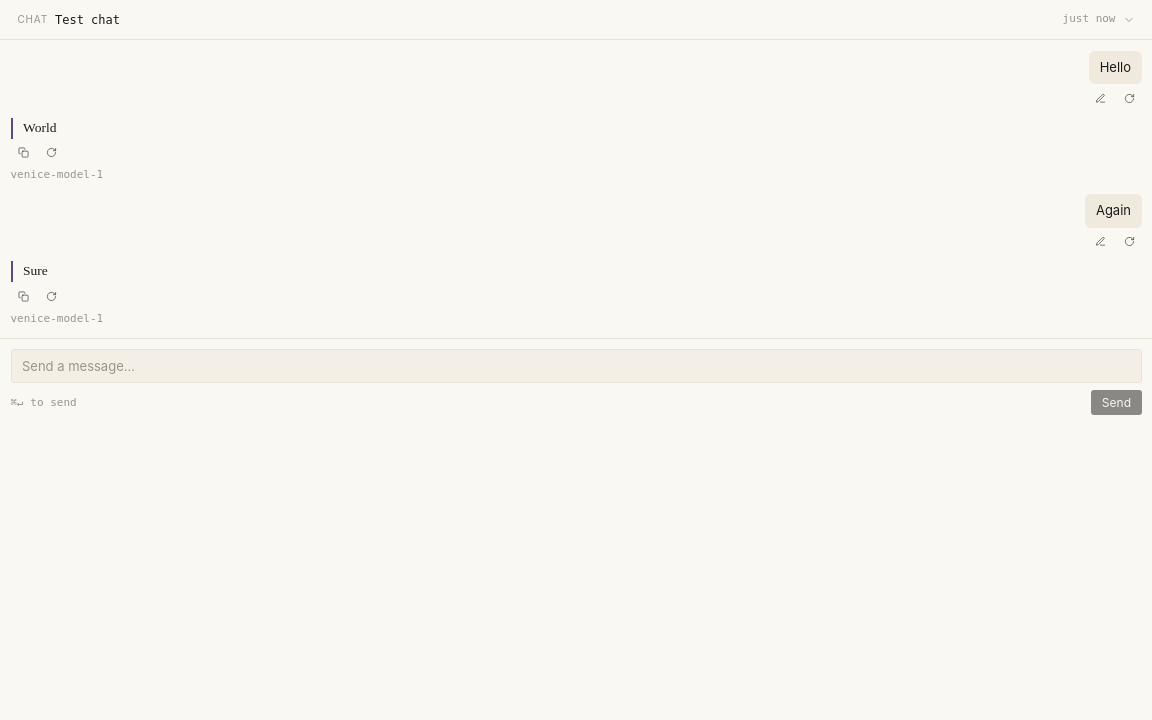
ChatTab — useMessageActions integration › resending a mid-thread user message shows the confirm dialog naming the drop count
The width and height of the screenshot is (1152, 720).
Expected: the element with test id "chat-tab" is shown, x1=0 y1=0 x2=1151 y2=426
Expected: the list item "Hello" is shown, x1=1088 y1=50 x2=1142 y2=107
Click the button named "Regenerate" below "Hello".
click(1129, 98)  # box x1=1116 y1=89 x2=1142 y2=107
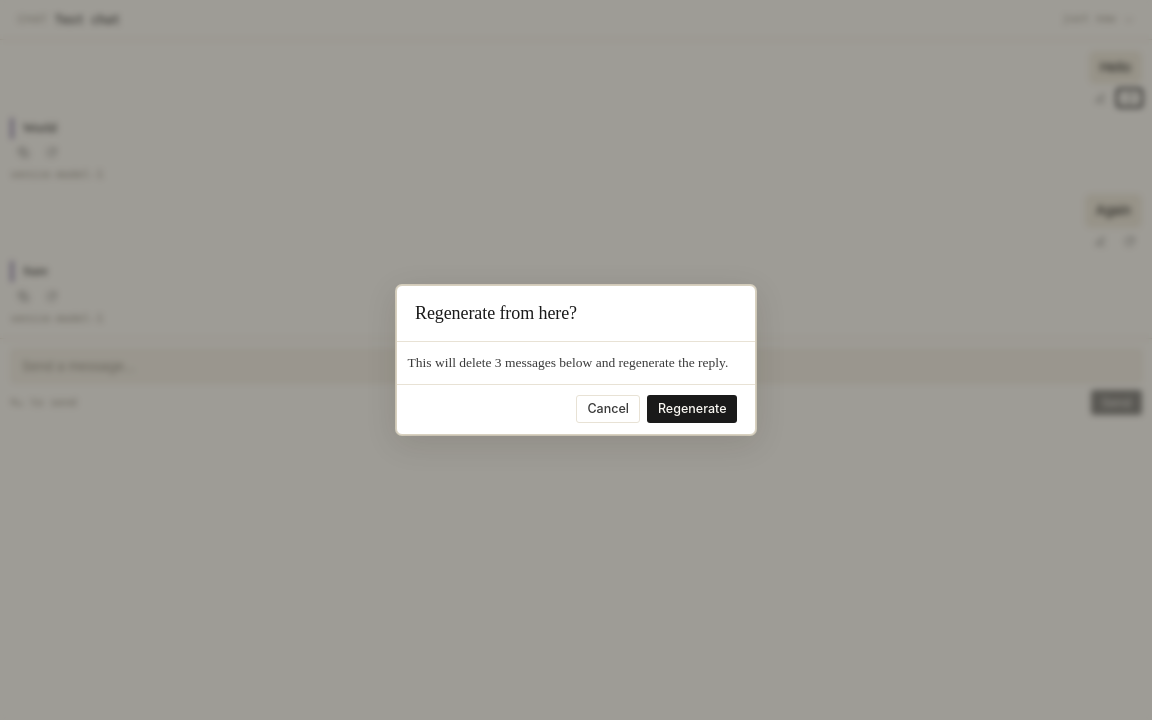
Expected: the dialog with test id "resend-confirm" is shown, x1=396 y1=285 x2=756 y2=435
Expected: the dialog with test id "resend-confirm" shows "3 messages", x1=408 y1=354 x2=728 y2=370
Expected: the button "Regenerate" is shown, x1=647 y1=396 x2=737 y2=424
